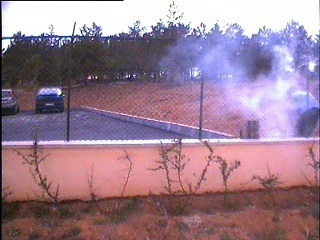smoke: (193, 23, 304, 134)
